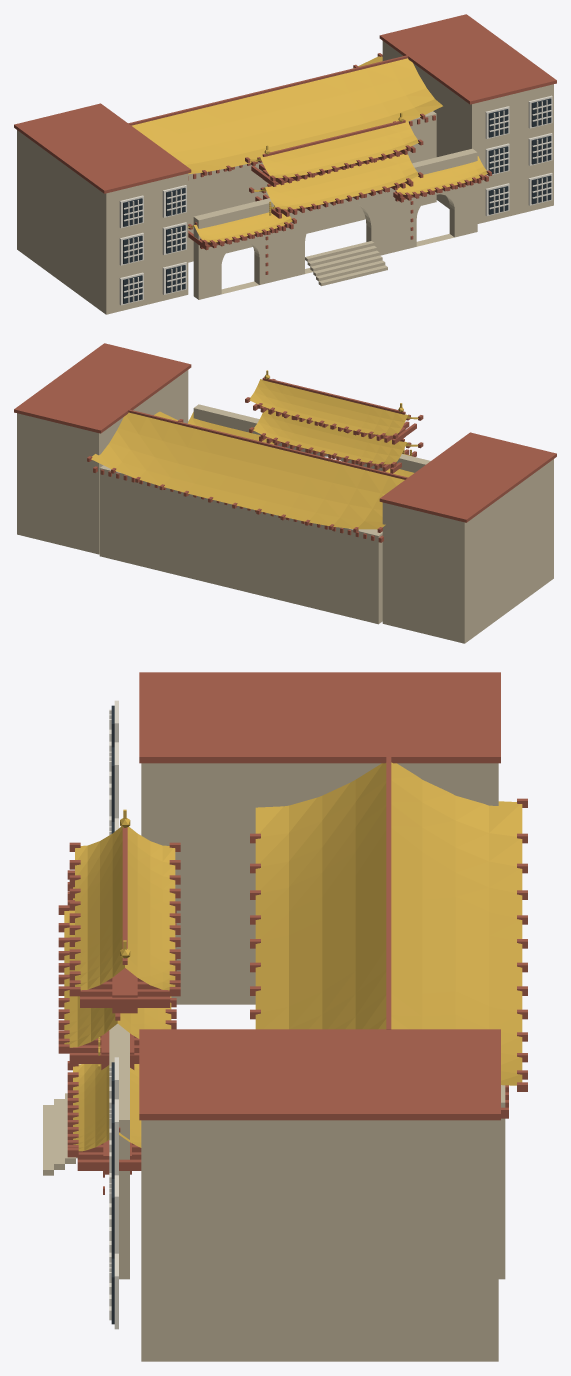
Rendered from he-hua-temple.glb.
3 renders of one model, top to bottom at view 1: azimuth 30°, elevation 25°; view 2: azimuth 150°, elevation 25°; view 3: azimuth 270°, elevation 25°, orthographic. The views are drawn at different scales.
Visible parts, largest first — view 1: he-hua-temple; view 2: he-hua-temple; view 3: he-hua-temple.
Part boxes in pixels (x1=…): he-hua-temple: x1=14, y1=14, x2=556, y2=314; he-hua-temple: x1=14, y1=343, x2=556, y2=643; he-hua-temple: x1=43, y1=672, x2=527, y2=1361.
Size of the model in its own units: 38.08 by 10.75 by 17.67.
